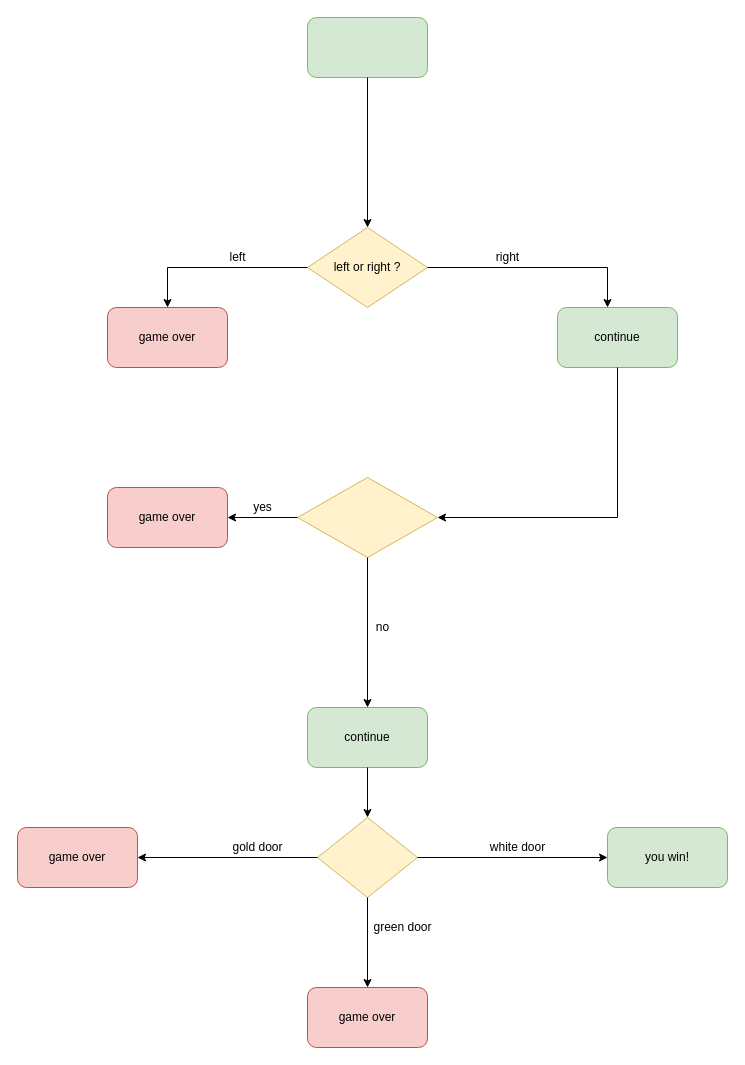
Some shapes in this 745 by 1065 pixel diagram are drawn without their labels. Each missing label, with the centre of its shape:
"start" goes at (367,47).
"swim across river ?" goes at (367,517).
"which door ?" goes at (367,857).
